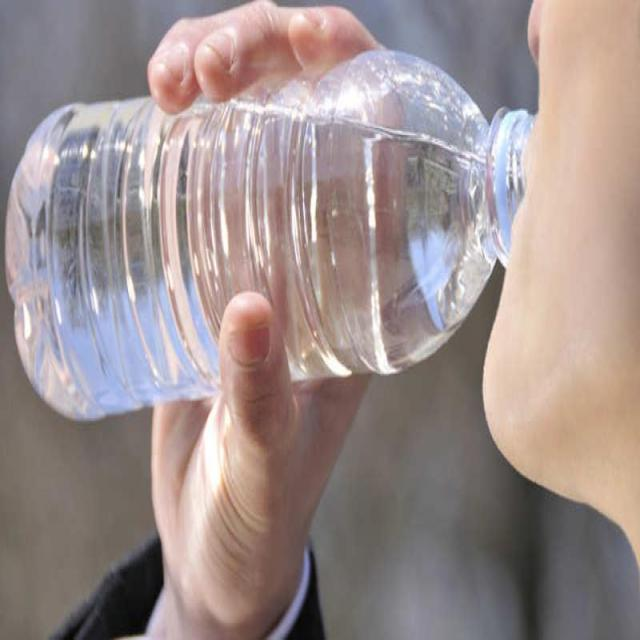plastic_bottle: (7, 50, 555, 431)
